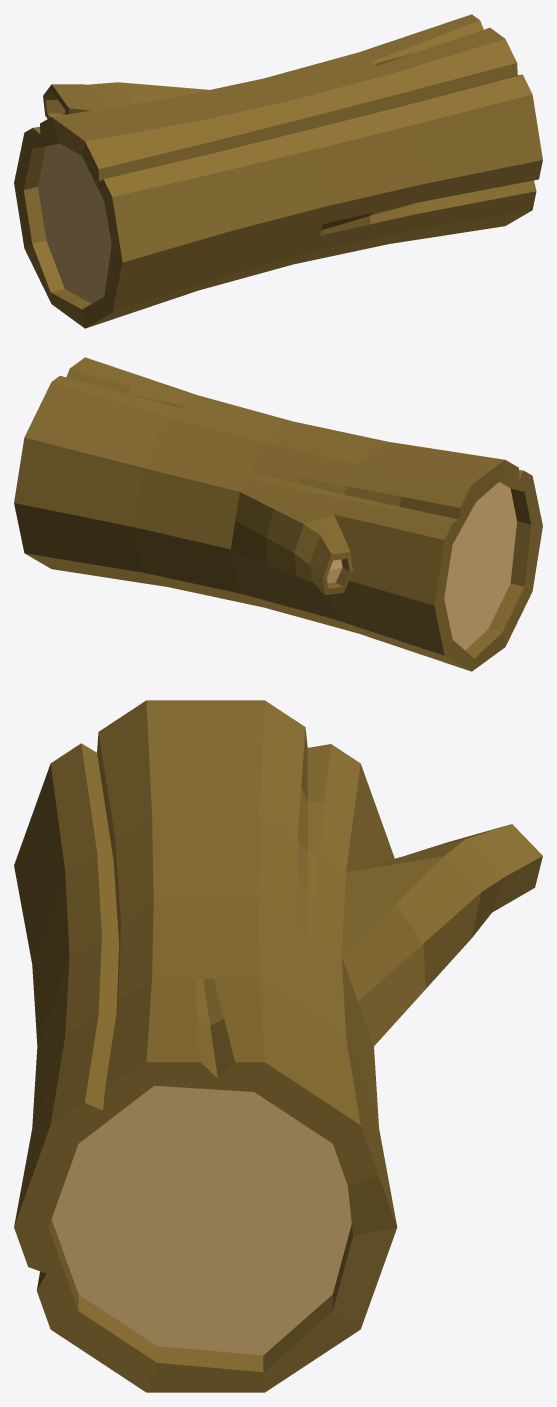
File: log_s.fbx
3 views of the same model, one above another, from view 1: azimuth 30°, elevation 25°; view 2: azimuth 150°, elevation 25°; view 3: azimuth 270°, elevation 25° (orthographic). The views are drawn at different scales.
Visible parts, largest first — view 1: Cylinder.002, Cylinder.005, Cylinder.006, Cylinder.001, Cylinder.004, Cylinder.003, Cylinder.007, Cylinder; view 2: Cylinder.002, Cylinder.005, Cylinder.006, Cylinder.001, Cylinder.004, Cylinder, Cylinder.007, Cylinder.003; view 3: Cylinder.005, Cylinder.006, Cylinder.002, Cylinder.007, Cylinder.003, Cylinder.004, Cylinder.001, Cylinder.
Part boxes in pixels (x1,y1,x2,y2): Cylinder.002: [14, 107, 180, 328]; Cylinder.005: [412, 14, 542, 235]; Cylinder.006: [43, 82, 232, 308]; Cylinder.001: [358, 34, 479, 243]; Cylinder.004: [264, 65, 376, 264]; Cylinder.003: [118, 82, 277, 290]; Cylinder.007: [175, 78, 325, 277]; Cylinder: [313, 52, 422, 253]; Cylinder.002: [376, 450, 542, 671]; Cylinder.005: [14, 357, 144, 578]; Cylinder.006: [294, 442, 443, 651]; Cylinder.001: [77, 377, 198, 586]; Cylinder.004: [180, 408, 292, 607]; Cylinder: [134, 395, 243, 596]; Cylinder.007: [231, 421, 342, 620]; Cylinder.003: [265, 432, 388, 633]; Cylinder.005: [14, 1018, 397, 1392]; Cylinder.006: [23, 760, 542, 963]; Cylinder.002: [14, 700, 394, 916]; Cylinder.007: [34, 856, 425, 1045]; Cylinder.003: [32, 815, 481, 1002]; Cylinder.004: [34, 901, 376, 1088]; Cylinder.001: [23, 979, 387, 1174]; Cylinder: [32, 942, 378, 1127].
Size of the model in its own units: 339 by 143 by 208.
